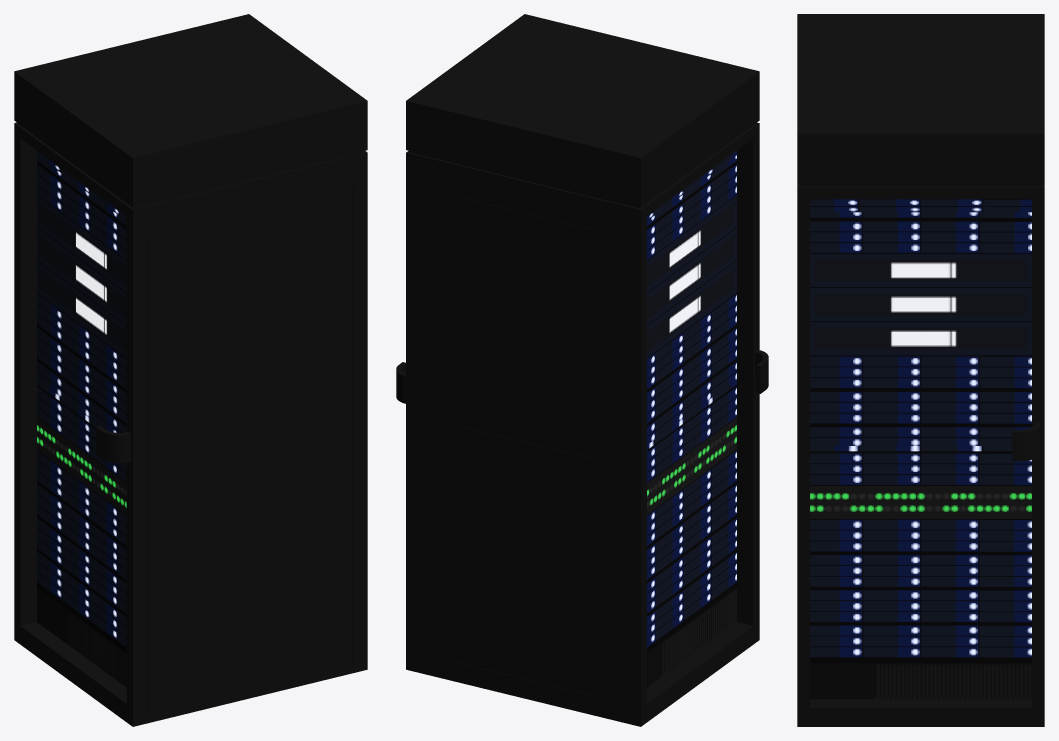
File: data_center_rack.glb
The picture shows the model from 3 angles, left to right: view 1: azimuth 30°, elevation 25°; view 2: azimuth 150°, elevation 25°; view 3: azimuth 270°, elevation 25°; orthographic projection. The views are drawn at different scales.
Visible parts, largest first — view 1: Object_2, Object_3, Object_5; view 2: Object_2, Object_3, Object_5; view 3: Object_3, Object_2, Object_5.
Part boxes in pixels (x1,y1,x2,y2): Object_2: (14,14,367,726); Object_3: (37,151,126,687); Object_5: (96,426,131,463); Object_2: (406,14,759,726); Object_3: (647,151,736,687); Object_5: (396,350,768,403); Object_3: (810,199,1031,699); Object_2: (797,14,1044,726); Object_5: (1012,422,1040,461).
Size of what is drawn, in the model's own units: 1.16 by 2.31 by 0.875.
Materials: 2 (1 with a texture image).
